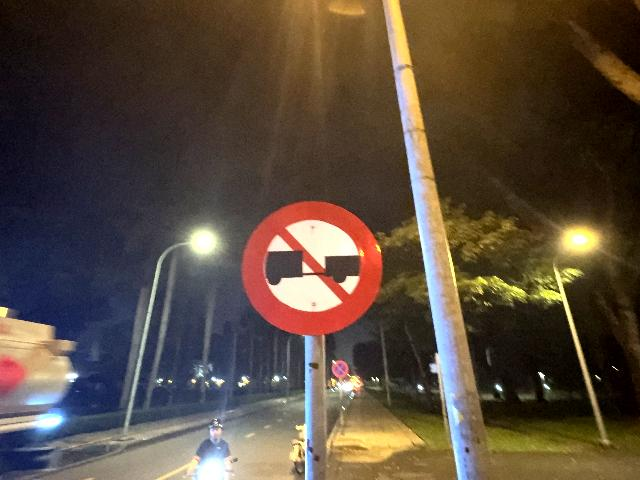cam-xe-somi-romooc: (239, 198, 383, 337)
